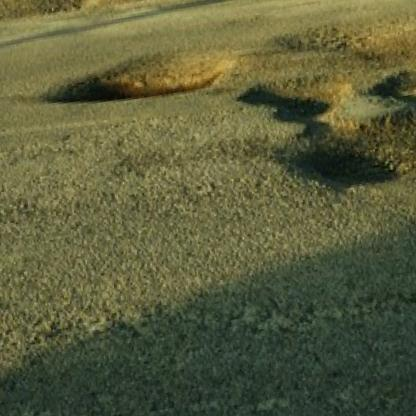pothole: (259, 75, 416, 207), (41, 38, 239, 120), (271, 0, 416, 106), (236, 66, 357, 129)
